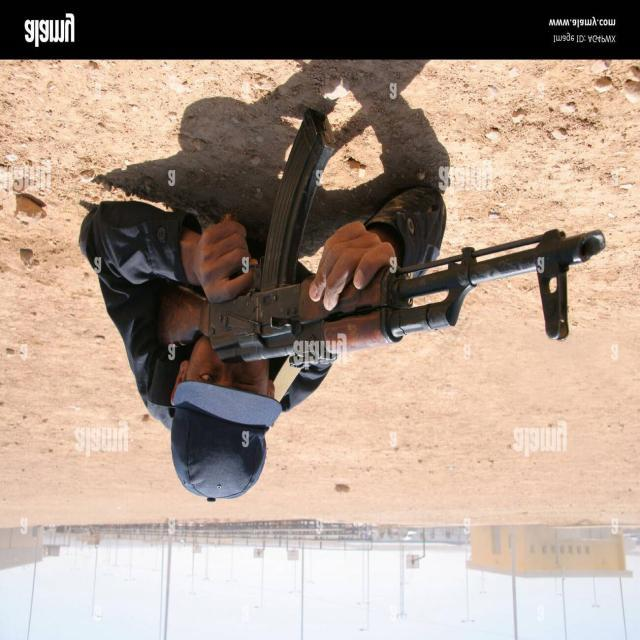weapon: (151, 110, 607, 368)
